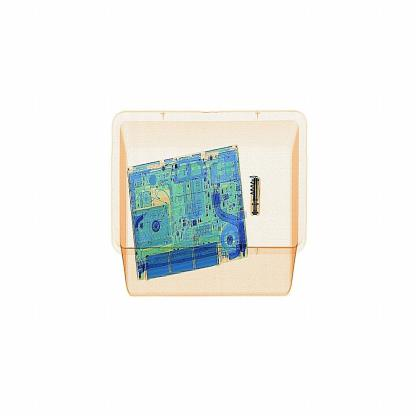scissors: (239, 166, 277, 225)
